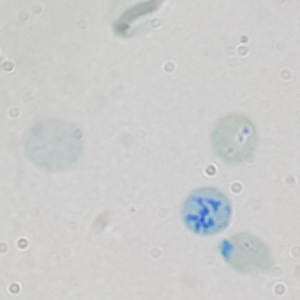aggregate reticulocyte: (178, 186, 234, 237)
erythrocyte: (19, 117, 86, 176), (209, 112, 261, 167), (216, 231, 275, 275)
